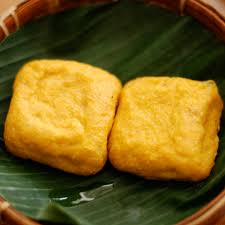Tahu goreng: (4, 60, 123, 171), (108, 75, 224, 182)
